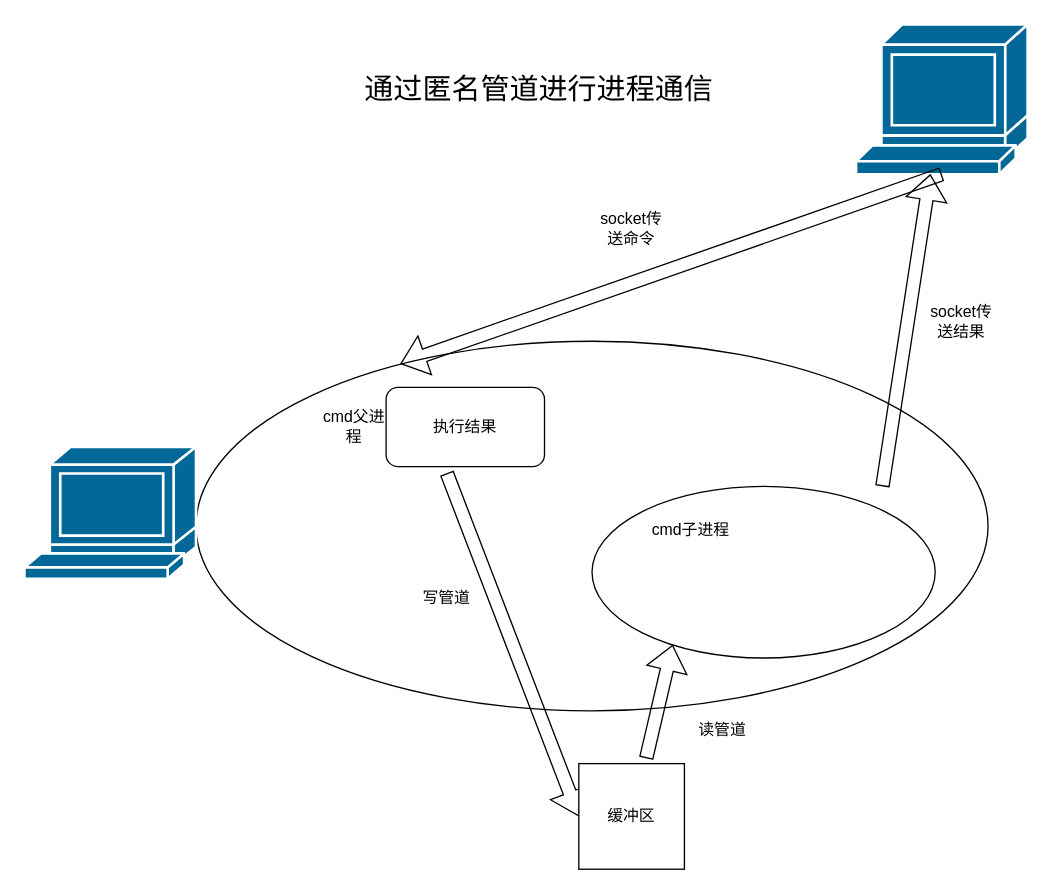
This 1051x892 diagram has some shape labels left out. The shapes that lost their labels are listed below. From the top down, each one's centre as x and y in pixels, then its label:
point (941, 98): 攻击机
point (109, 512): 目标机
